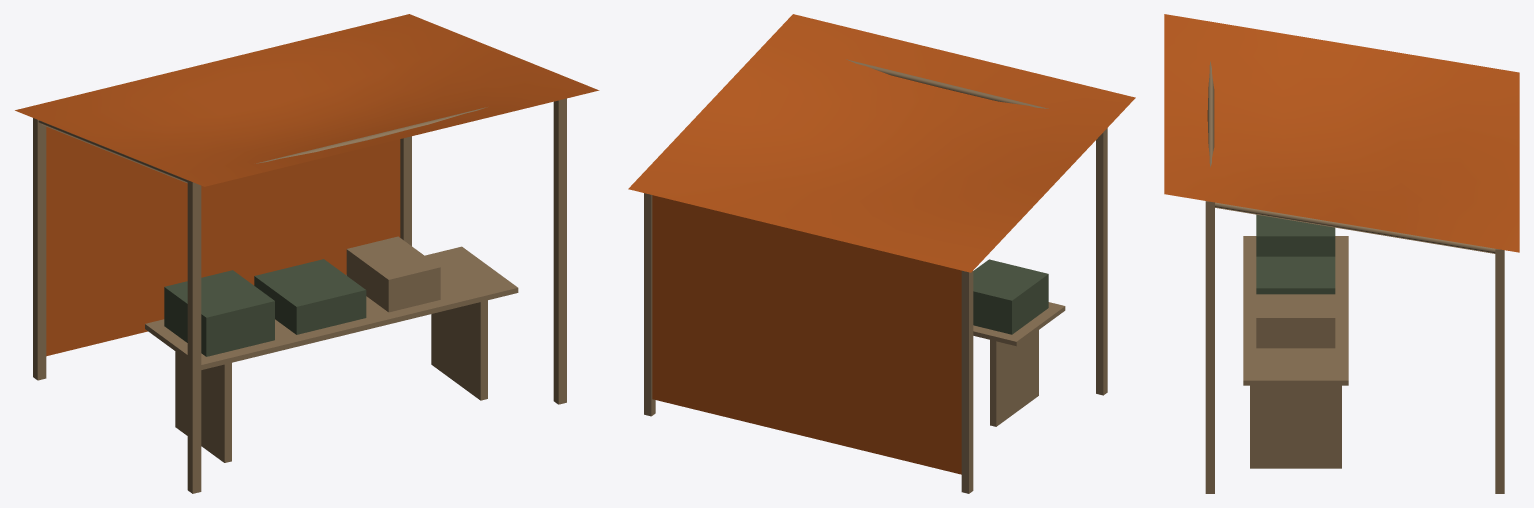
The model's file is SM_stall2.glb.
The picture shows the model from 3 angles, left to right: view 1: azimuth 30°, elevation 25°; view 2: azimuth 150°, elevation 25°; view 3: azimuth 270°, elevation 25°; orthographic projection. The views are drawn at different scales.
Visible parts, largest first — view 1: SM_stall2; view 2: SM_stall2; view 3: SM_stall2.
Boxes of the visible parts, left/top/right/bottom form: SM_stall2: left=15, top=14, right=599, bottom=493; SM_stall2: left=628, top=14, right=1135, bottom=493; SM_stall2: left=1164, top=14, right=1519, bottom=493.
Size of the model in its own units: 3.24 by 2.55 by 2.7.
